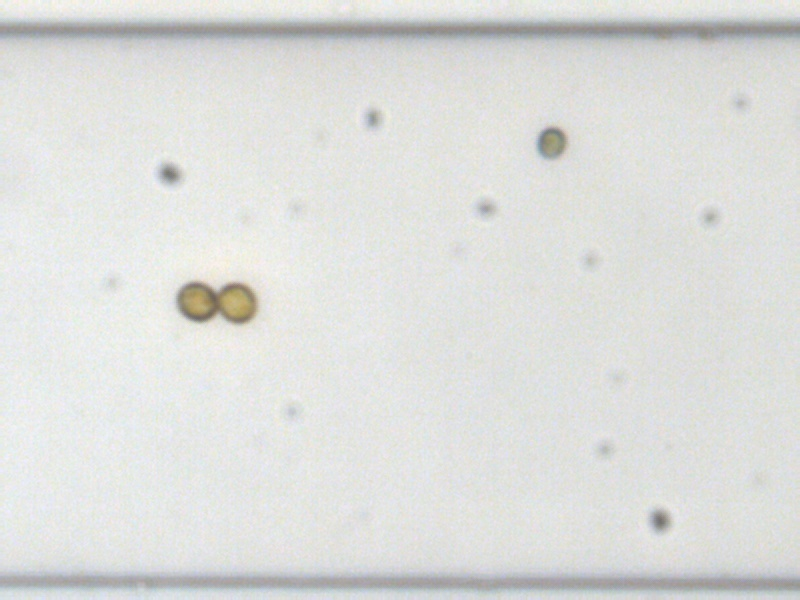Dunaliella salina: (534, 123, 566, 160)
Effrenium: (214, 280, 258, 325), (174, 278, 218, 322)
